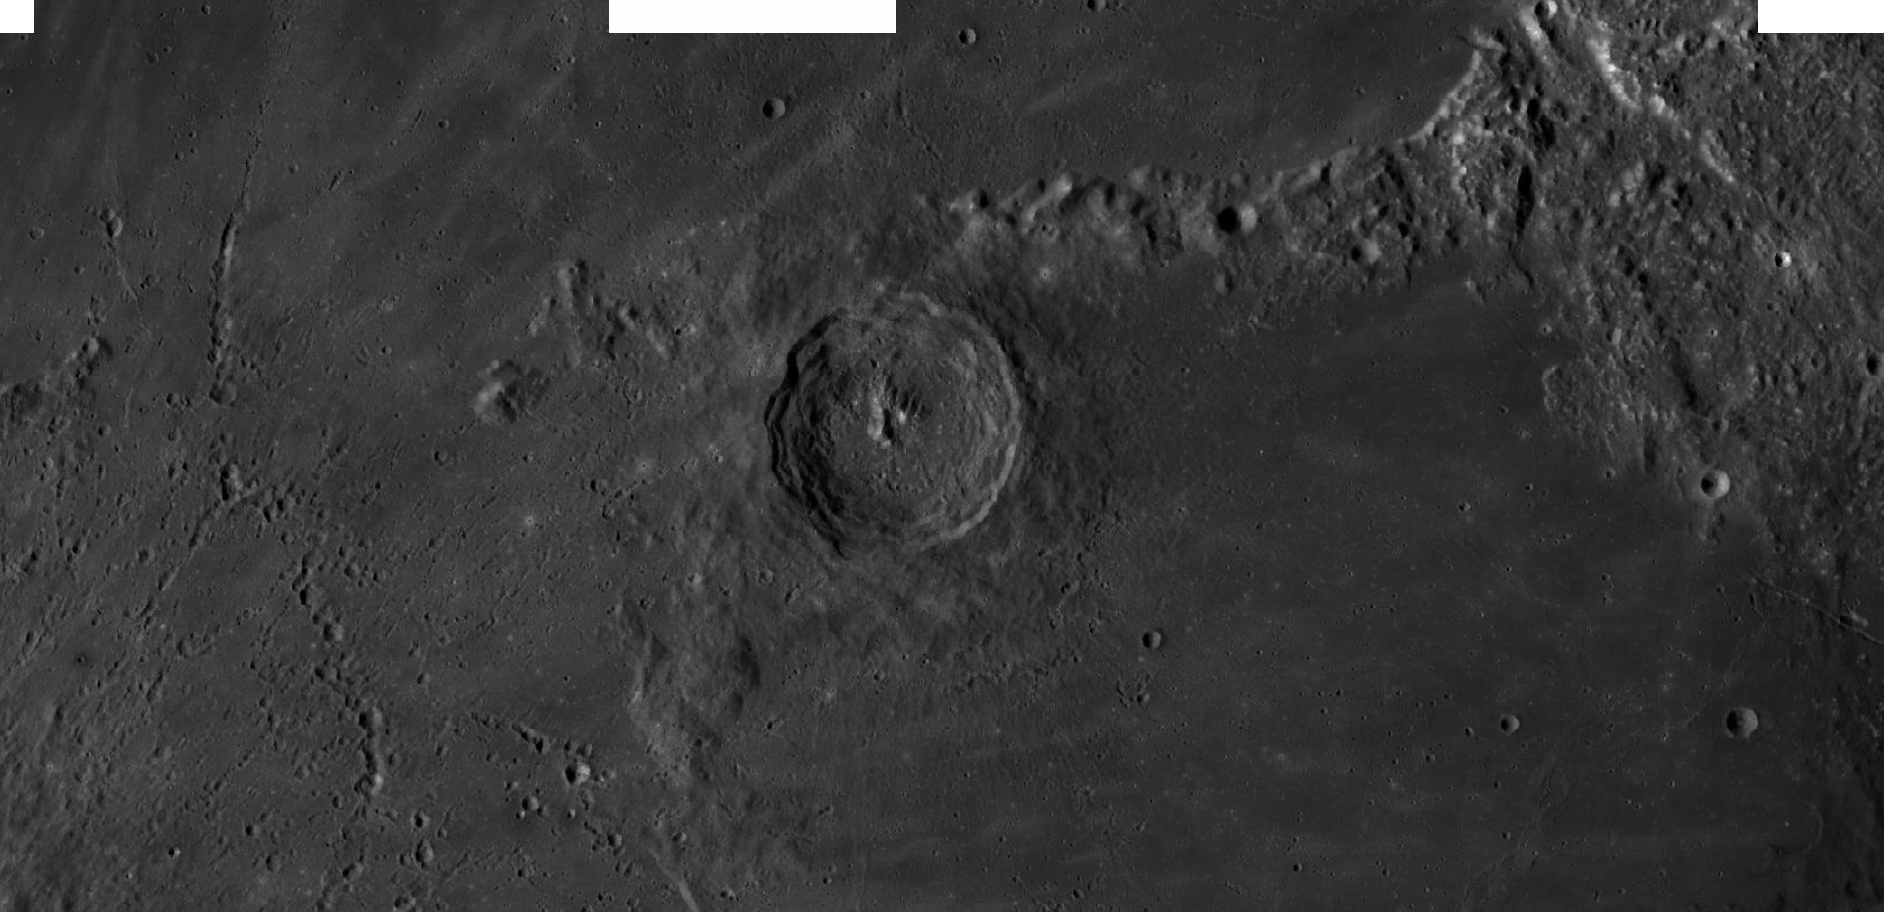crater: (673, 246, 1143, 701), (1480, 664, 1557, 770), (1698, 678, 1779, 770), (1683, 447, 1745, 524), (743, 81, 806, 137)
